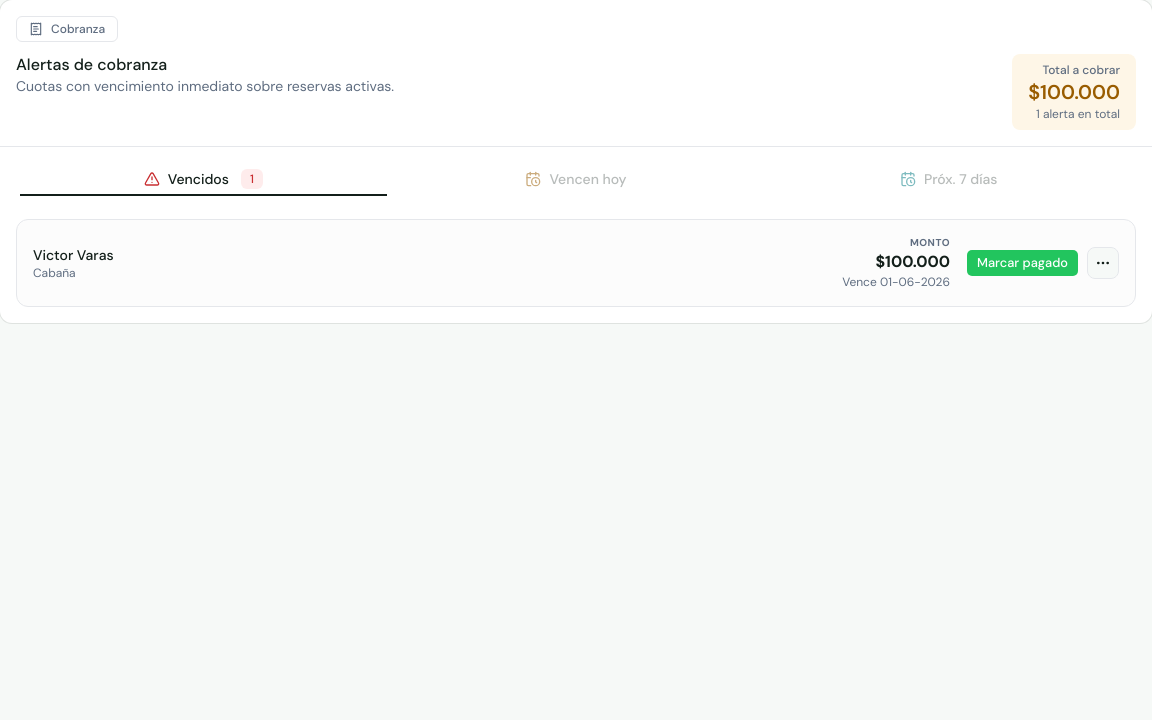
Test: UrgentCollectionCard › abre el MarkPaidDialog al clickear 'Marcar pagado'
The width and height of the screenshot is (1152, 720).
Click the button "Marcar pagado": [1022, 263] box [966,249,1079,277]
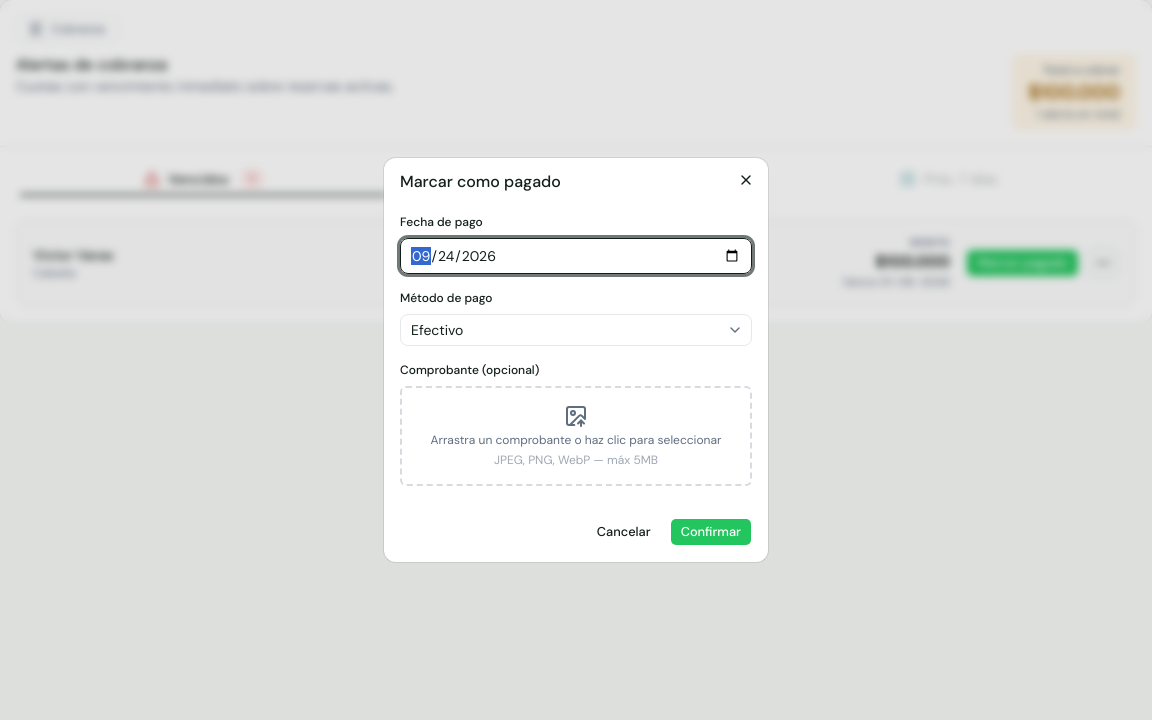
Result: the dialog is shown at [384,158,768,562]
Result: the heading "Marcar como pagado" is shown at [400,171,561,192]
